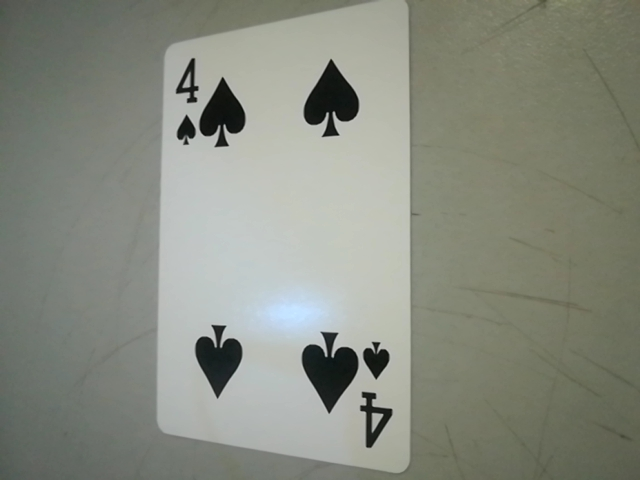ht 4: (348, 328, 402, 465)
